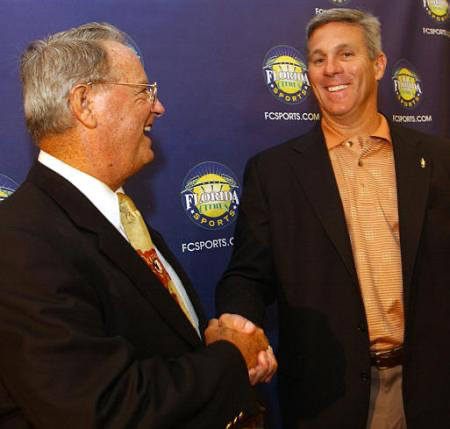Face: (113, 56, 167, 187), (303, 32, 378, 121)
